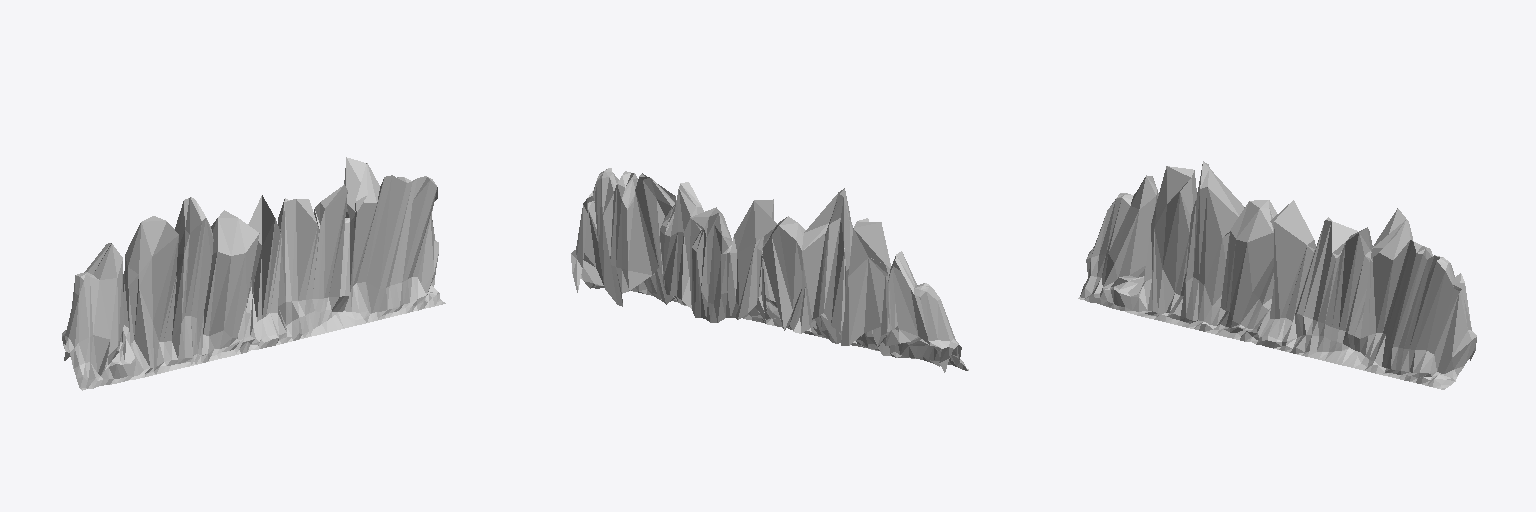
Rendered from border-front.obj.
3 renders of one model, left to right at view 1: azimuth 30°, elevation 25°; view 2: azimuth 150°, elevation 25°; view 3: azimuth 330°, elevation 25°, orthographic.
Visible parts, largest first — view 1: Plane.4; view 2: Plane.4; view 3: Plane.4.
Boxes of the visible parts, <box> form: Plane.4: <box>62,157,445,390</box>; Plane.4: <box>571,168,968,372</box>; Plane.4: <box>1078,161,1476,389</box>.
Bounding box in the file's own units: 104 × 42.66 × 13.64.